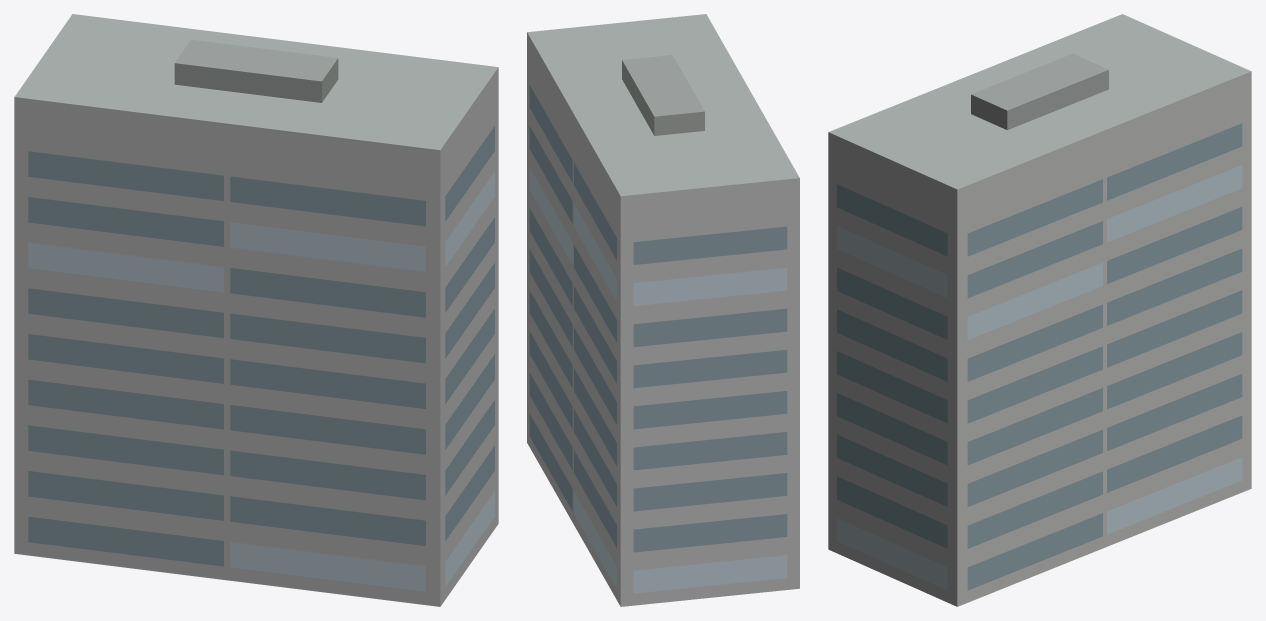
File: fallback-dmc-raemian-e-pyeonhansesang-201.glb
3 renders of one model, left to right at view 1: azimuth 30°, elevation 25°; view 2: azimuth 150°, elevation 25°; view 3: azimuth 270°, elevation 25°, orthographic. The views are drawn at different scales.
Visible parts, largest first — view 1: fallback-dmc-raemian-e-pyeonhansesang-201; view 2: fallback-dmc-raemian-e-pyeonhansesang-201; view 3: fallback-dmc-raemian-e-pyeonhansesang-201.
Part boxes in pixels (x1=…): fallback-dmc-raemian-e-pyeonhansesang-201: x1=14, y1=14, x2=498, y2=606; fallback-dmc-raemian-e-pyeonhansesang-201: x1=527, y1=14, x2=799, y2=606; fallback-dmc-raemian-e-pyeonhansesang-201: x1=828, y1=14, x2=1251, y2=606.
Size of the model in its own units: 25.84 by 30 by 26.33.
